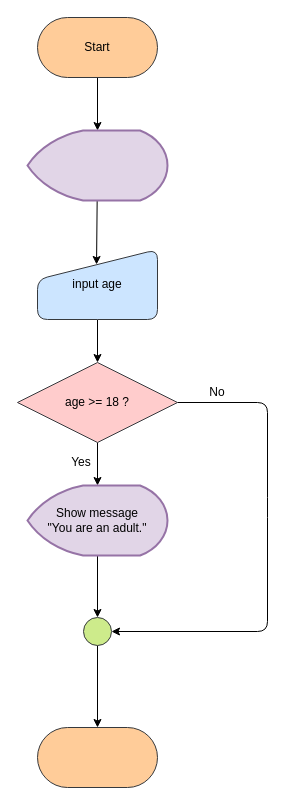
The diagram is 293 pixels wide and 805 high, and some of its shapes have lost their labels. Here are the shapes that lost their labels. From the top down, the box of each, then its label:
(26, 129, 168, 201): Show message "Please input age: "
(36, 726, 158, 788): End
